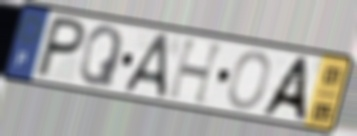A: (257, 55, 313, 125), (121, 32, 173, 100)
H: (165, 37, 228, 108)
O: (225, 49, 273, 112)
P: (31, 14, 90, 81)
Q: (76, 24, 126, 90)
